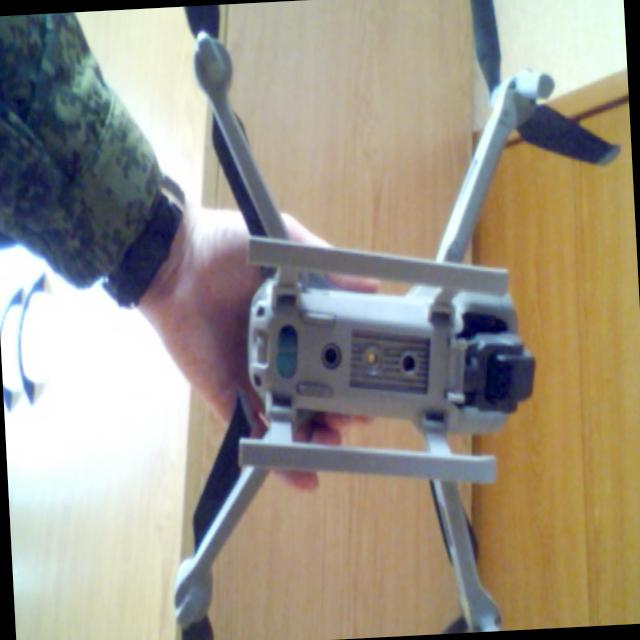drone: (138, 0, 589, 640)
